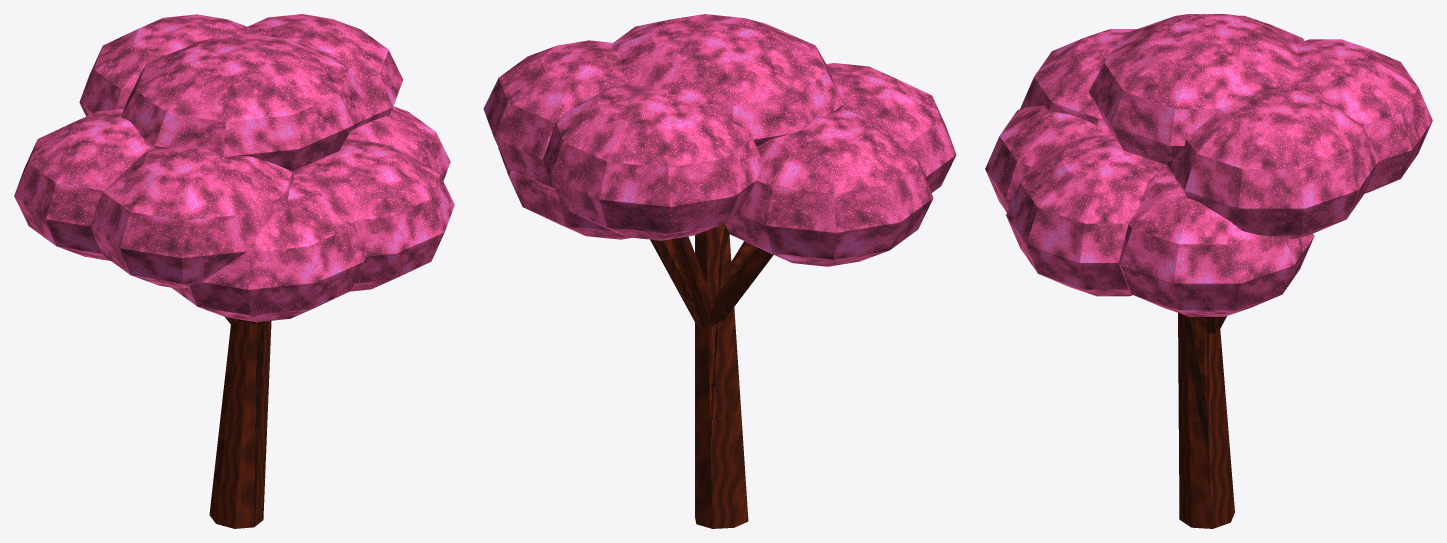
The model's file is cherry_tree.glb.
The picture shows the model from 3 angles, left to right: view 1: azimuth 30°, elevation 25°; view 2: azimuth 150°, elevation 25°; view 3: azimuth 270°, elevation 25°; orthographic projection. The views are drawn at different scales.
Parts seen in each view (by area): view 1: Canopy, Body; view 2: Canopy, Body; view 3: Canopy, Body.
Boxes of the visible parts, box(x1,y1,x2,y2) form: Canopy: box(14, 14, 454, 322); Body: box(209, 317, 271, 528); Canopy: box(483, 14, 956, 266); Body: box(650, 224, 773, 528); Canopy: box(985, 14, 1432, 316); Body: box(1178, 313, 1234, 528).
Size of the model in its own units: 6.22 by 7.03 by 5.84.
Materials: 2 (2 with a texture image).
